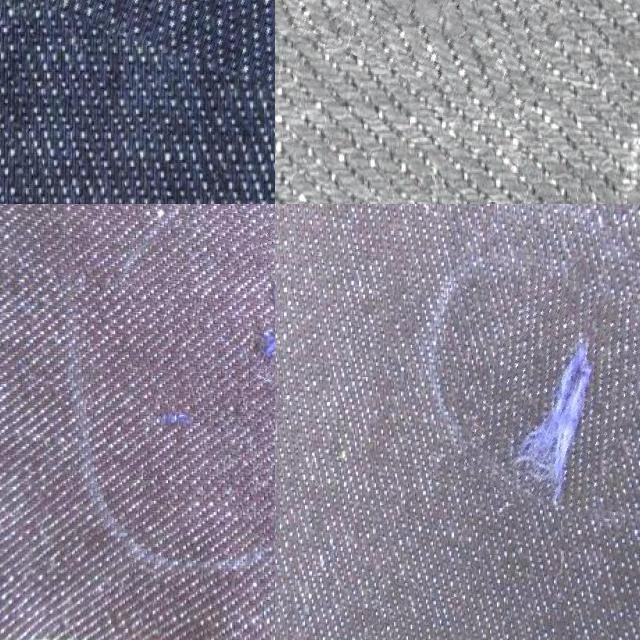stains: (471, 274, 640, 511), (275, 0, 581, 87), (186, 285, 275, 377), (122, 395, 242, 460)
